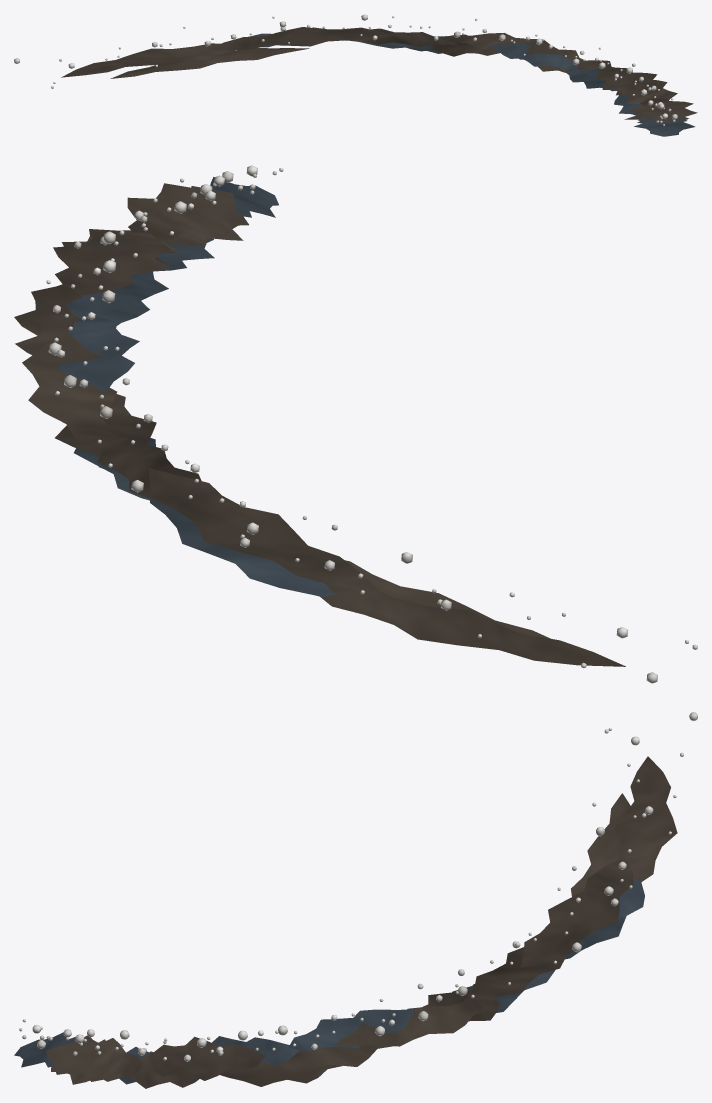
The model's file is galaxy_arm.glb.
The picture shows the model from 3 angles, top to bottom: view 1: azimuth 30°, elevation 25°; view 2: azimuth 150°, elevation 25°; view 3: azimuth 270°, elevation 25°; orthographic projection. The views are drawn at different scales.
Visible parts, largest first — view 1: galaxy_arm_textured_mesh; view 2: galaxy_arm_textured_mesh; view 3: galaxy_arm_textured_mesh.
Boxes of the visible parts, left/top/right/bottom form: galaxy_arm_textured_mesh: left=14, top=14, right=697, bottom=136; galaxy_arm_textured_mesh: left=14, top=165, right=697, bottom=683; galaxy_arm_textured_mesh: left=14, top=712, right=697, bottom=1088.
Size of the model in its own units: 3.05 by 0.1394 by 2.5.
1 material, 1 textured.
